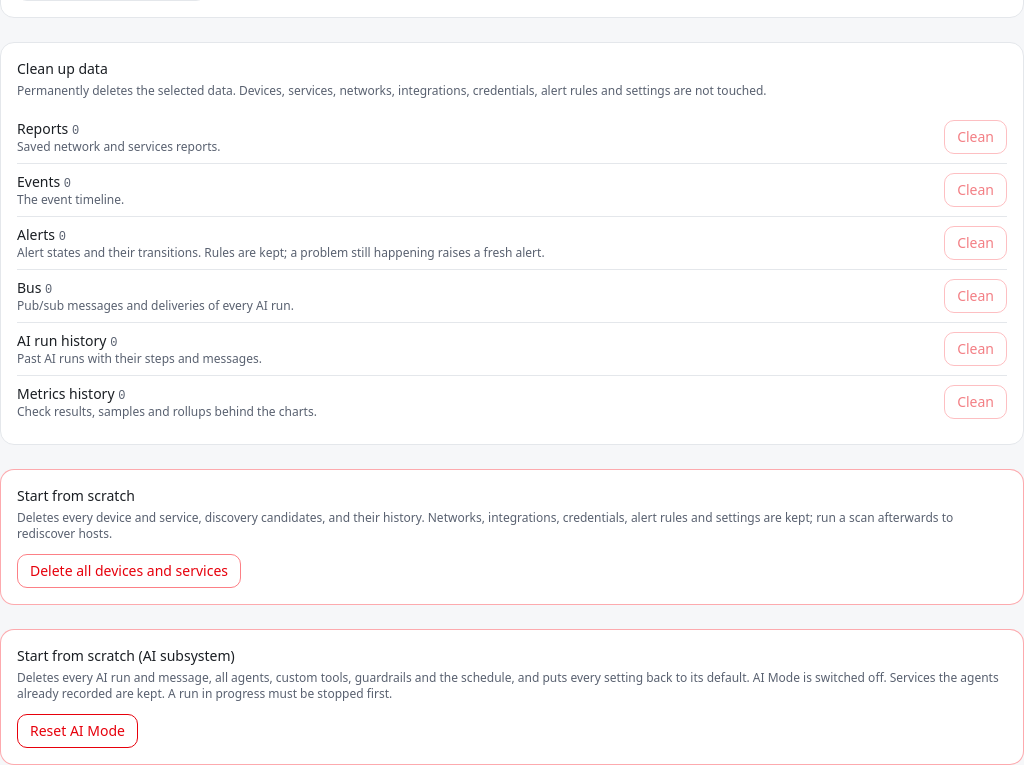
Test: AboutPage › resets AI Mode from the AI subsystem card after confirmation
(page scrolled)
Expected: the text "Start from scratch (AI subsystem)" is shown, [17,646,235,665]
Click the button "Reset AI Mode" at (77, 731), box [17,714,138,748]
(page scrolled)
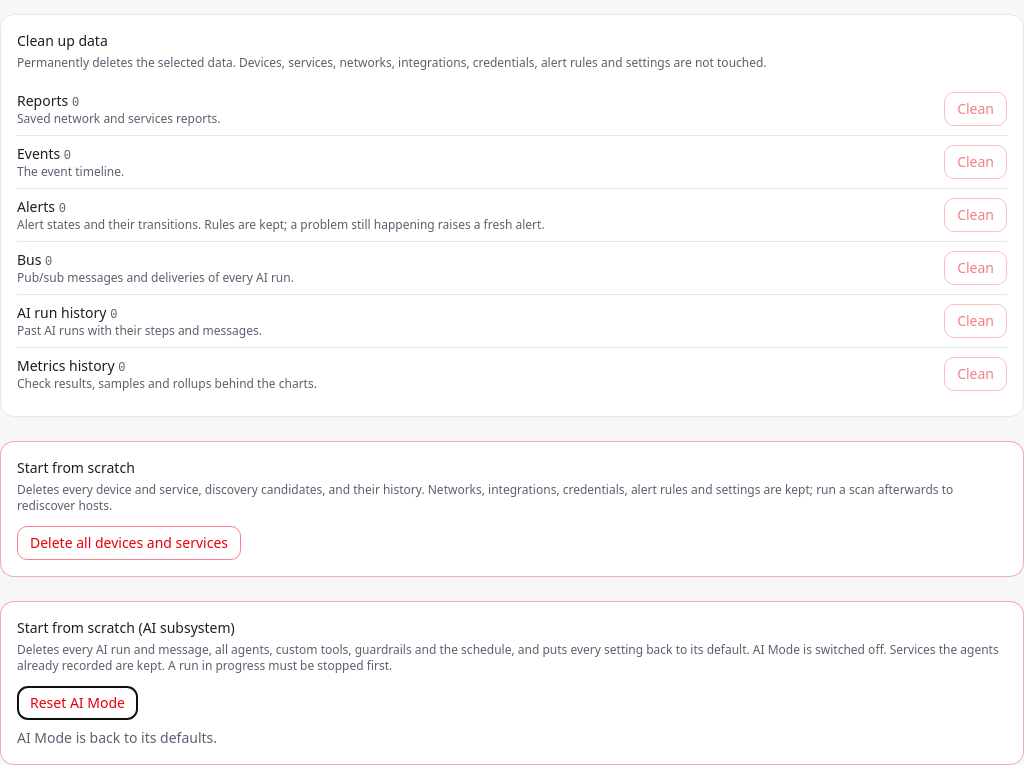
Expected: the text "AI Mode is back to its defaults." is shown, [17,728,217,747]
